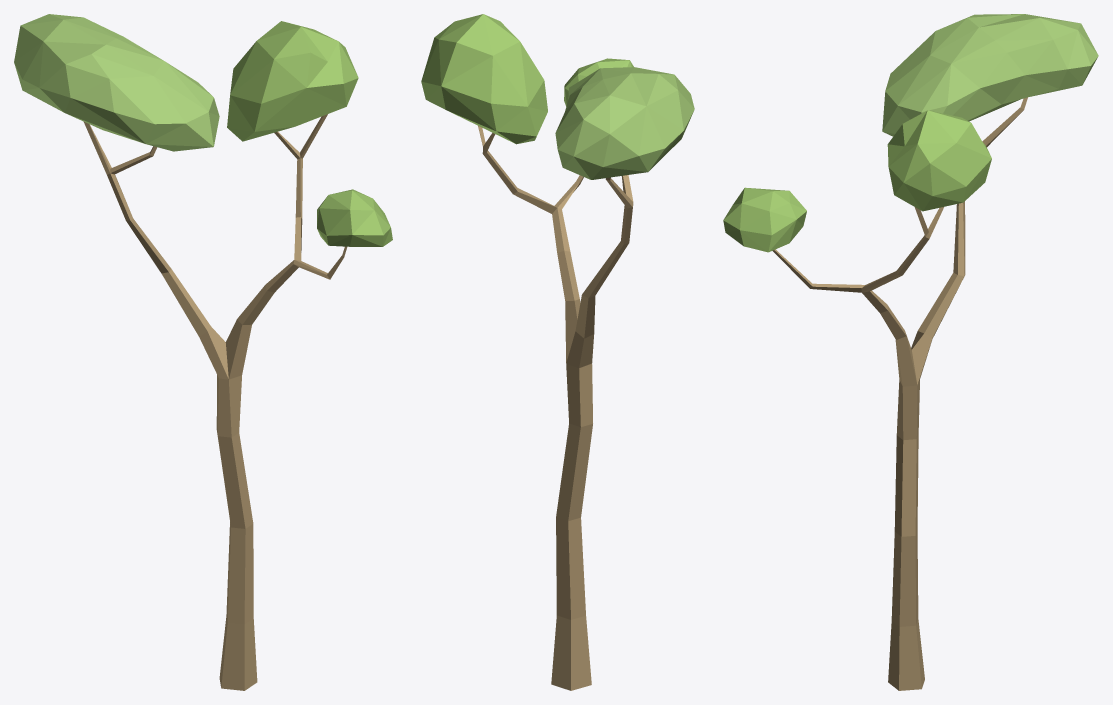
Rendered from Acacia_Tree_s_02_LOD.fbx.
3 views of the same model, side by side, from view 1: azimuth 30°, elevation 25°; view 2: azimuth 150°, elevation 25°; view 3: azimuth 270°, elevation 25° (orthographic). The views are drawn at different scales.
Parts seen in each view (by area): view 1: Acacia_Tree_s_02_LOD0; view 2: Acacia_Tree_s_02_LOD0; view 3: Acacia_Tree_s_02_LOD0.
Boxes of the visible parts, box(x1,y1,x2,y2) form: Acacia_Tree_s_02_LOD0: box(14, 14, 392, 690); Acacia_Tree_s_02_LOD0: box(421, 14, 694, 690); Acacia_Tree_s_02_LOD0: box(723, 14, 1098, 690).
Size of what is drawn, in the model's own units: 301 by 667 by 368.
